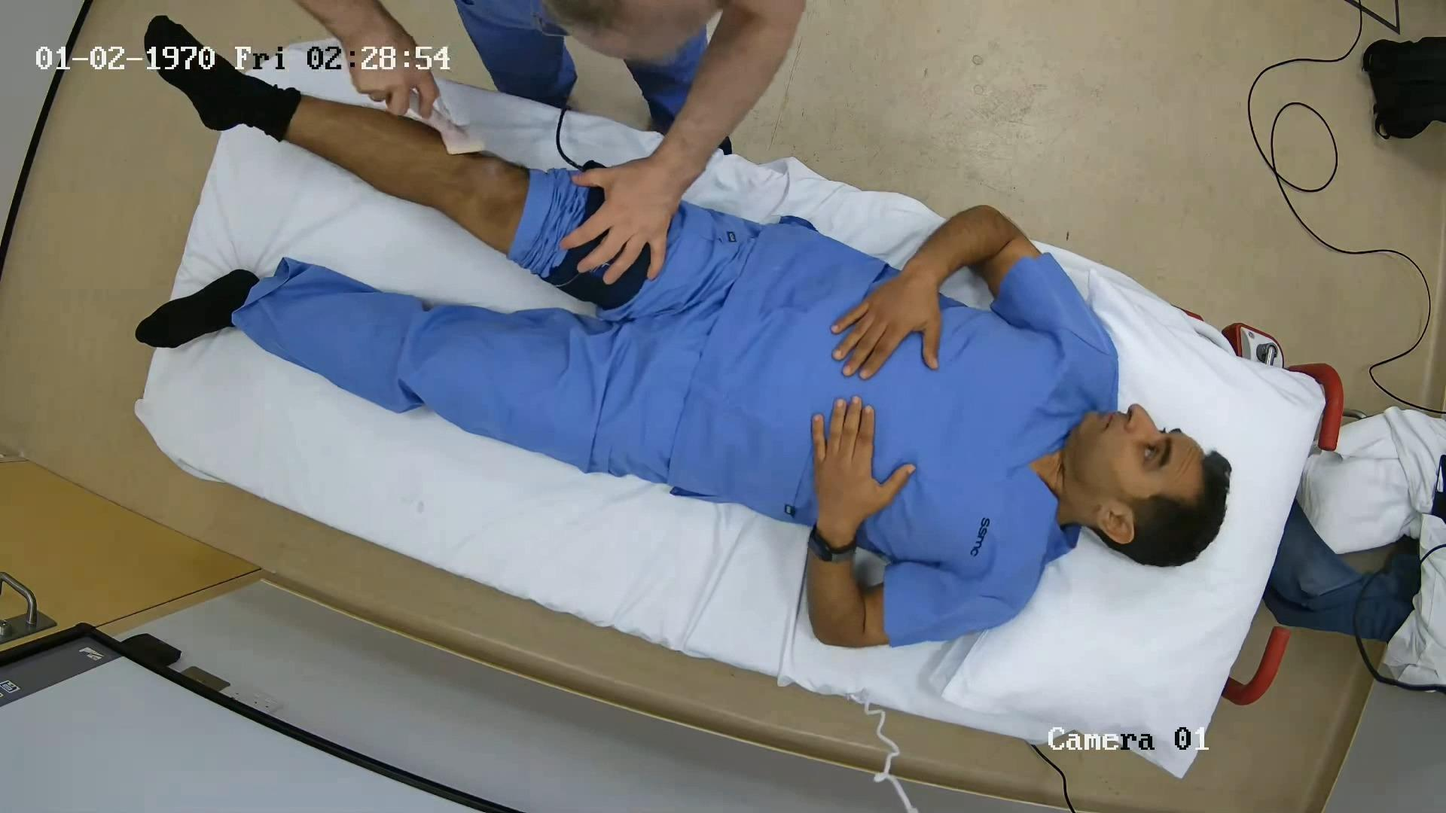patient: (136, 70, 1324, 775), (138, 64, 1227, 646)
prepstick: (405, 99, 486, 154)
tourniquet: (545, 246, 649, 309), (584, 190, 602, 209)
